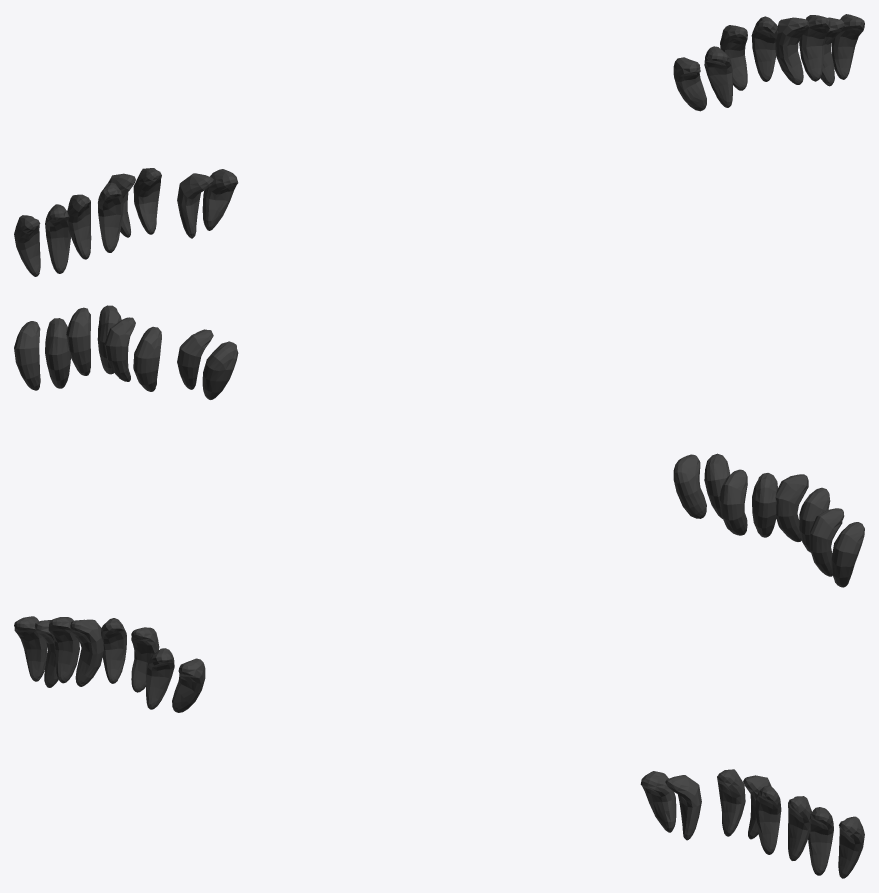
File: FL_sesamoids_proximal_1.glb
3 views of the same model, one above another, from view 1: azimuth 30°, elevation 25°; view 2: azimuth 150°, elevation 25°; view 3: azimuth 330°, elevation 25° (orthographic).
Parts seen in each view (by area): view 1: FL_sesamoids_proximal_1; view 2: FL_sesamoids_proximal_1; view 3: FL_sesamoids_proximal_1.
Boxes of the visible parts, x1=… form: FL_sesamoids_proximal_1: x1=14, y1=14, x2=864, y2=276; FL_sesamoids_proximal_1: x1=14, y1=305, x2=864, y2=587; FL_sesamoids_proximal_1: x1=14, y1=616, x2=864, y2=878.
Size of the model in its own units: 0.00429 by 0.000419 by 0.000319.
1 material, 1 textured.
